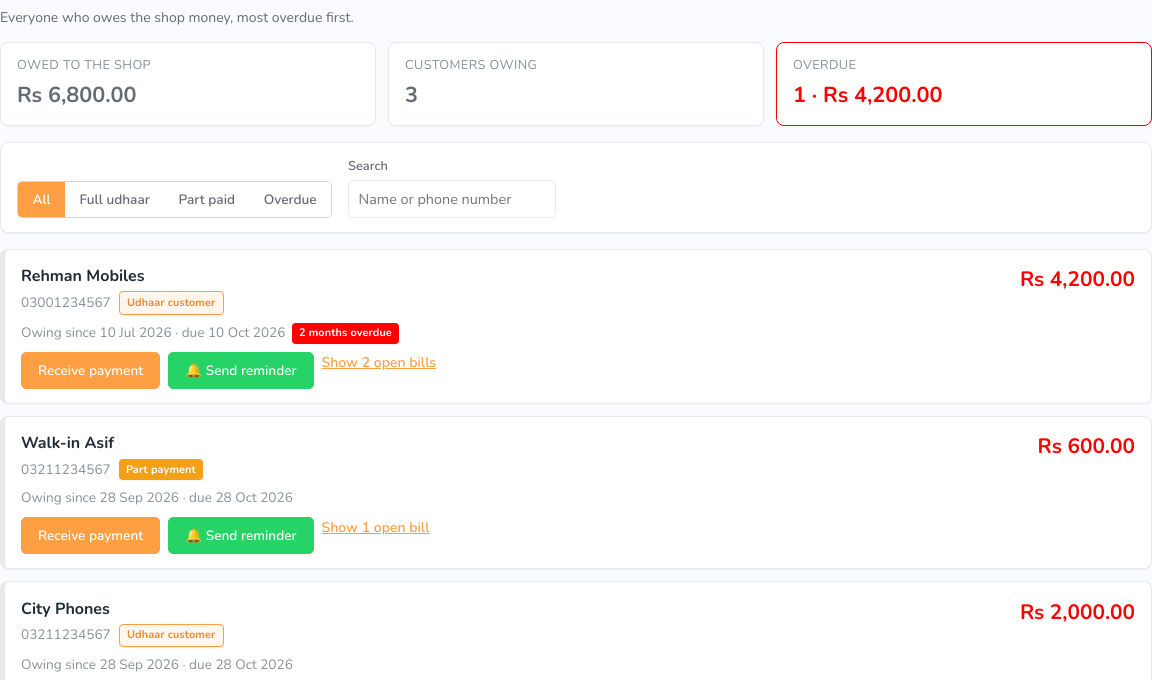
Scenario: the recovery page › filters to Part paid
This screenshot has width=1152, height=680.
Expected: the element with test id "recovery-7" is shown, [0,249,1151,404]
Click the button "Part paid".
click(207, 199)  # box [164,182,249,216]
(page scrolled)
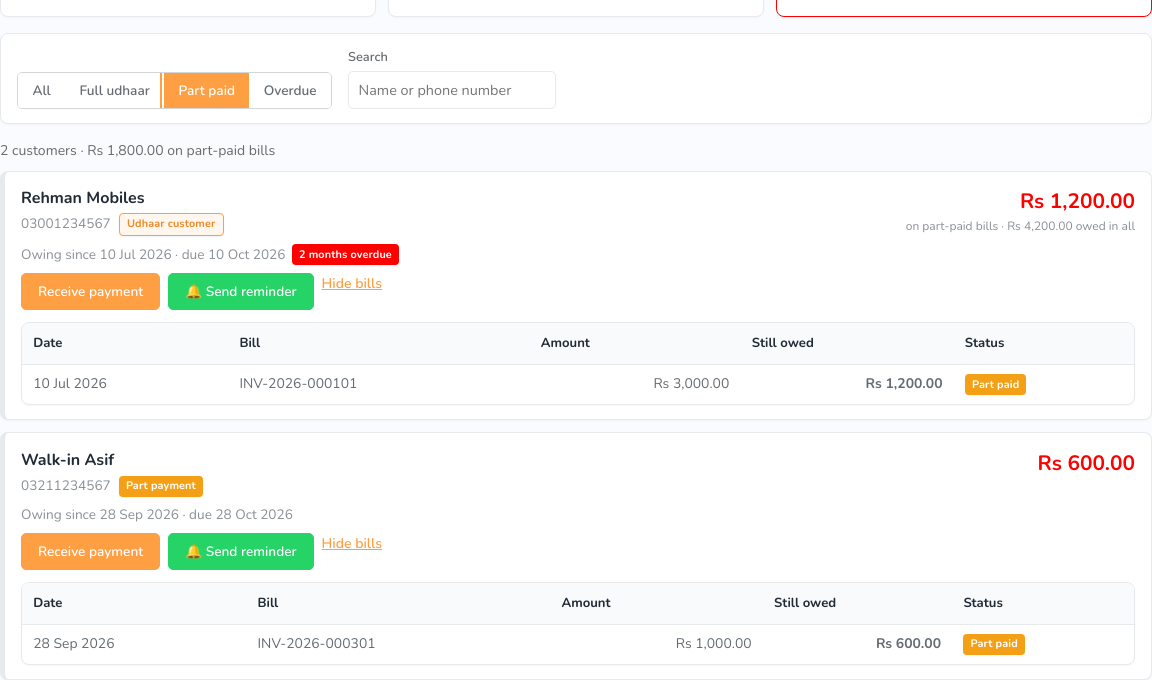
Expected: the element with test id "recovery-7" is shown, [0,170,1151,420]
Expected: the element with test id "recovery-9" is shown, [0,432,1151,679]
